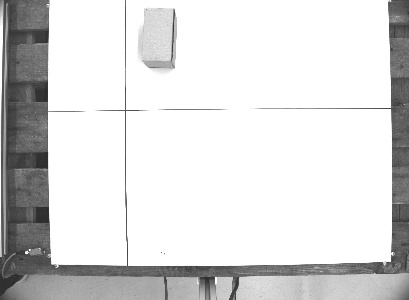b2: (139, 5, 180, 71)
